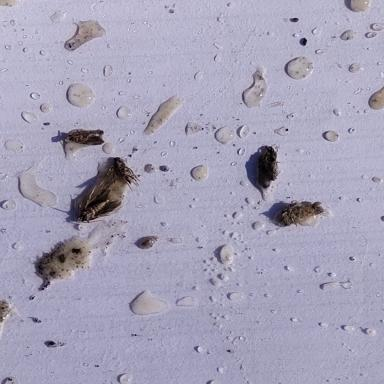pbw: (70, 191, 125, 225), (96, 156, 142, 195), (262, 145, 282, 181), (64, 127, 104, 145)
